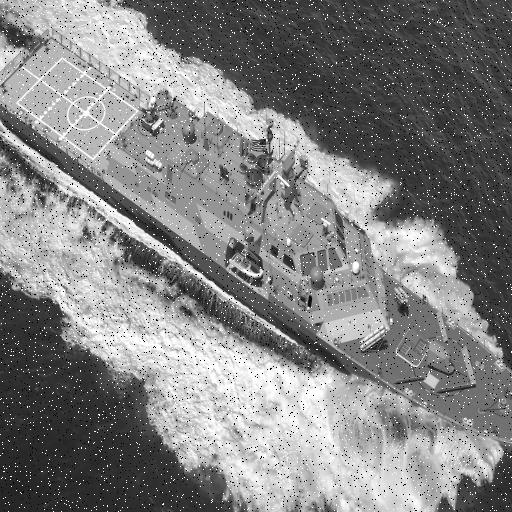Fragata: (1, 22, 361, 475)
